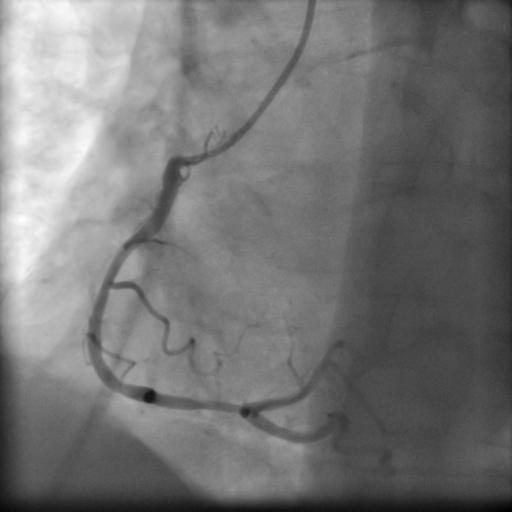Stenosis: (185, 391, 239, 418)
